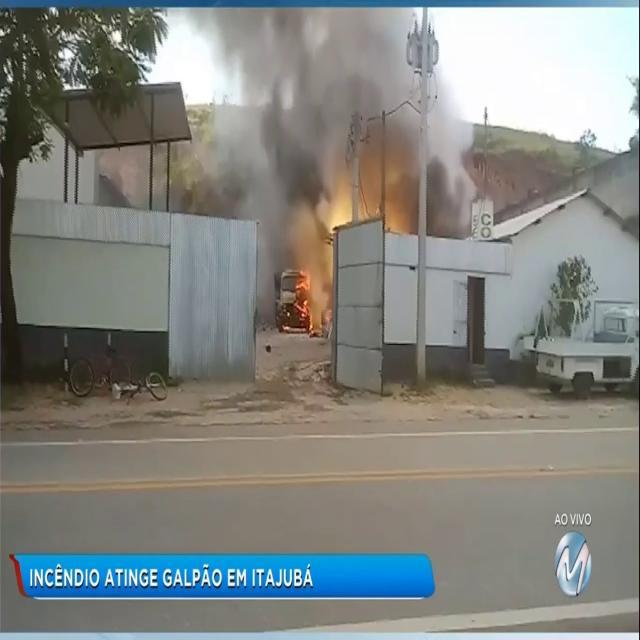Fire: (296, 270, 312, 335)
Smoke: (192, 9, 450, 112), (216, 116, 350, 220), (428, 114, 476, 238), (361, 131, 417, 233), (258, 223, 335, 271), (256, 272, 274, 324), (312, 273, 333, 311)
